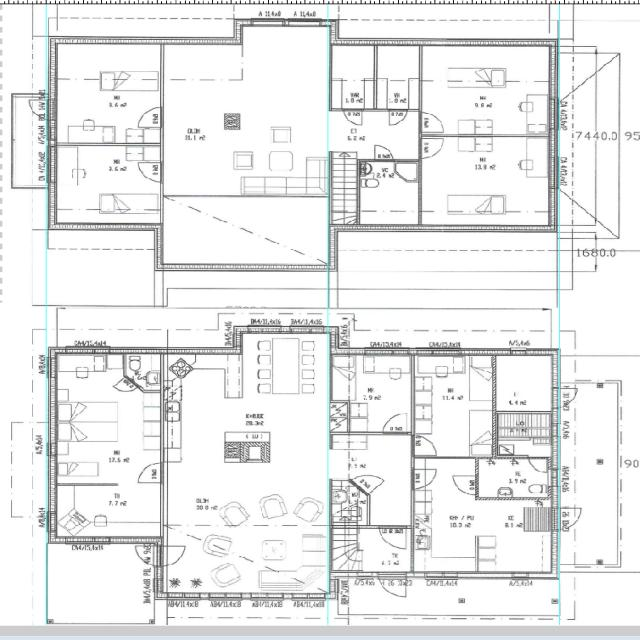door: (349, 466, 385, 496), (379, 570, 407, 601), (551, 508, 585, 530), (154, 546, 188, 567), (130, 546, 163, 567), (24, 100, 57, 120), (380, 525, 405, 550), (135, 462, 163, 483), (134, 105, 162, 126), (411, 469, 438, 489), (383, 412, 406, 435), (114, 377, 139, 398), (551, 388, 580, 406), (452, 476, 478, 496), (417, 113, 444, 132), (136, 163, 162, 182), (418, 139, 444, 158), (411, 436, 437, 454), (388, 109, 408, 127), (375, 143, 393, 162), (528, 455, 546, 473), (344, 109, 362, 126)
